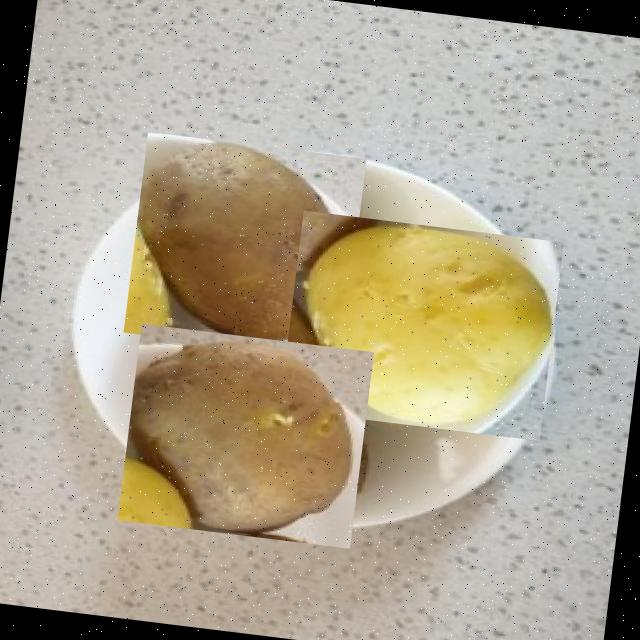Potato: (279, 210, 563, 440), (118, 322, 374, 548), (123, 131, 366, 358)
